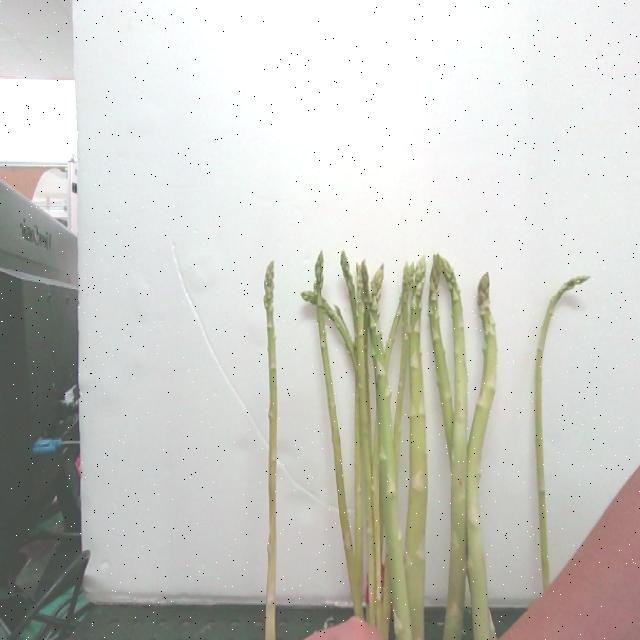aspargus: (533, 277, 586, 596), (265, 265, 280, 640)
